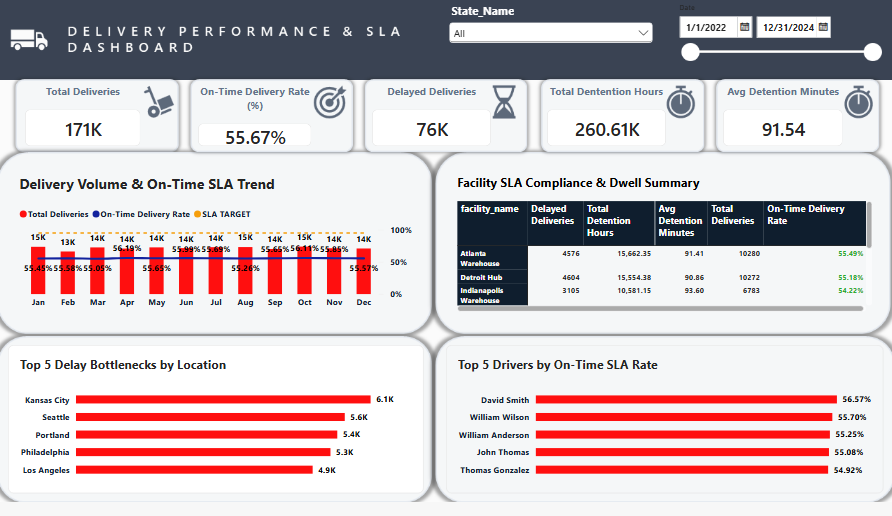

This screenshot's page, from the dashboard's own definition file:
{"tool":"powerbi","page":{"name":"Delivery Performance & SLA","canvas":[1920,1080],"ordinal":3},"visuals":[{"type":"cardVisual","title":"Total Deliveries","fields":{"Data":["_Measures.Total Deliveries"]},"box":[358.2,300,165.7,89.6],"z":0},{"type":"cardVisual","title":"On-Time Delivery Rate (%)","fields":{"Data":["_Measures.On-Time Delivery Rate"]},"box":[606,300,162.7,89.6],"z":1000},{"type":"cardVisual","title":"Delayed Deliveries","fields":{"Data":["_Measures.Delayed Deliveries"]},"box":[853.7,300,170.1,89.6],"z":2000},{"type":"cardVisual","title":"Avg Detention Minutes","fields":{"Data":["_Measures.Avg Detention Minutes"]},"box":[1355.2,300,171.6,89.6],"z":3000},{"type":"cardVisual","title":"Total Dentention Hours","fields":{"Data":["_Measures.Total Detention Hours"]},"box":[1104.5,300,170.1,89.6],"z":4000},{"type":"lineClusteredColumnComboChart","title":"Delivery Volume & On-Time SLA Trend","fields":{"Category":["Calendar.Month Name"],"Y":["_Measures.Total Deliveries"],"Y2":["_Measures.On-Time Delivery Rate","_Measures.SLA TARGET"]},"box":[334.3,414.9,594,226.9],"z":5000},{"type":"clusteredBarChart","title":"Top 5 Delay Bottlenecks by Location","fields":{"Category":["delivery_events.location_city"],"Y":["_Measures.Delayed Deliveries"]},"box":[334.3,673.1,594,211.9],"z":6000},{"type":"pivotTable","title":"Facility SLA Compliance & Dwell Summary","fields":{"Rows":["facilities.facility_name"],"Values":["_Measures.Delayed Deliveries","_Measures.Total Detention Hours","_Measures.Avg Detention Minutes","_Measures.Total Deliveries","_Measures.On-Time Delivery Rate"]},"box":[959.7,414.9,625.4,226.9],"z":7000},{"type":"clusteredBarChart","title":"Top 5 Drivers by On-Time SLA Rate","fields":{"Category":["drivers.Full_Name"],"Y":["_Measures.On-Time Delivery Rate"]},"box":[959.7,673.1,625.4,211.9],"z":8000},{"type":"slicer","fields":{"Values":["Calendar.Date"]},"box":[1285.1,183.6,300,95.5],"z":9000},{"type":"slicer","fields":{"Values":["Dim_State.State_Name"]},"box":[959.7,183.6,300,95.5],"z":10000}]}

Visuals, with their boxes in screenshot pixels (x1, y1, x2, y2), scaled from the page's 1920x1080 canvas onto the 892x516 screenshot:
"Total Deliveries" cardVisual: BBox(166, 143, 243, 186)
"On-Time Delivery Rate (%)" cardVisual: BBox(282, 143, 357, 186)
"Delayed Deliveries" cardVisual: BBox(397, 143, 476, 186)
"Avg Detention Minutes" cardVisual: BBox(630, 143, 709, 186)
"Total Dentention Hours" cardVisual: BBox(513, 143, 592, 186)
"Delivery Volume & On-Time SLA Trend" lineClusteredColumnComboChart: BBox(155, 198, 431, 307)
"Top 5 Delay Bottlenecks by Location" clusteredBarChart: BBox(155, 322, 431, 423)
"Facility SLA Compliance & Dwell Summary" pivotTable: BBox(446, 198, 736, 307)
"Top 5 Drivers by On-Time SLA Rate" clusteredBarChart: BBox(446, 322, 736, 423)
slicer - Calendar.Date: BBox(597, 88, 736, 133)
slicer - Dim_State.State_Name: BBox(446, 88, 585, 133)
